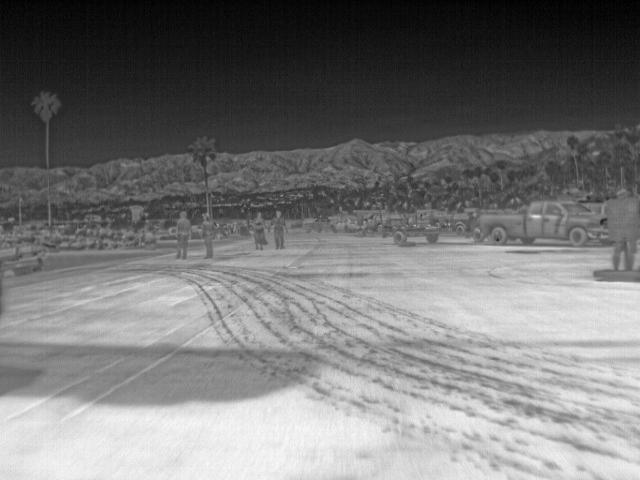car: (478, 197, 606, 245)
person: (609, 189, 638, 270), (175, 210, 194, 261), (199, 212, 216, 258), (250, 210, 268, 249), (271, 209, 287, 249)
